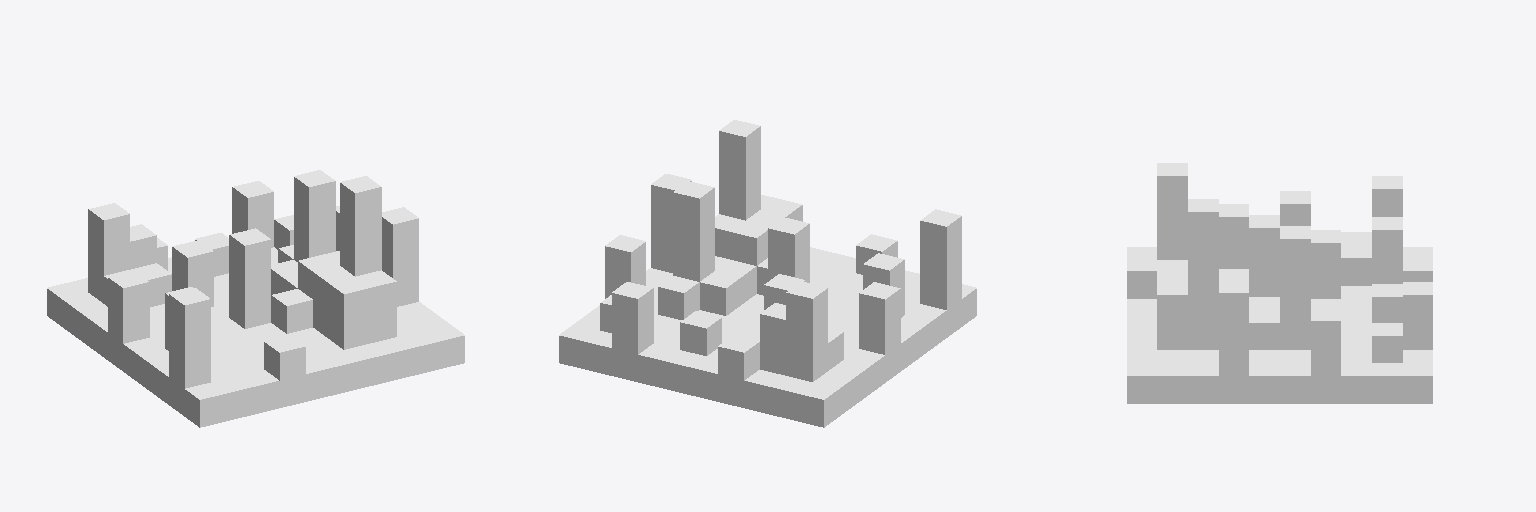
The model's file is grass-montain5.obj.
The picture shows the model from 3 angles: view 1: azimuth 30°, elevation 25°; view 2: azimuth 150°, elevation 25°; view 3: azimuth 270°, elevation 25°; orthographic projection.
Visible parts, largest first — view 1: object 1; view 2: object 1; view 3: object 1.
Boxes of the visible parts, x1=… form: object 1: x1=47, y1=170, x2=464, y2=427; object 1: x1=559, y1=120, x2=976, y2=427; object 1: x1=1127, y1=163, x2=1432, y2=403.
Bounding box in the file's own units: 1 × 0.6 × 1.